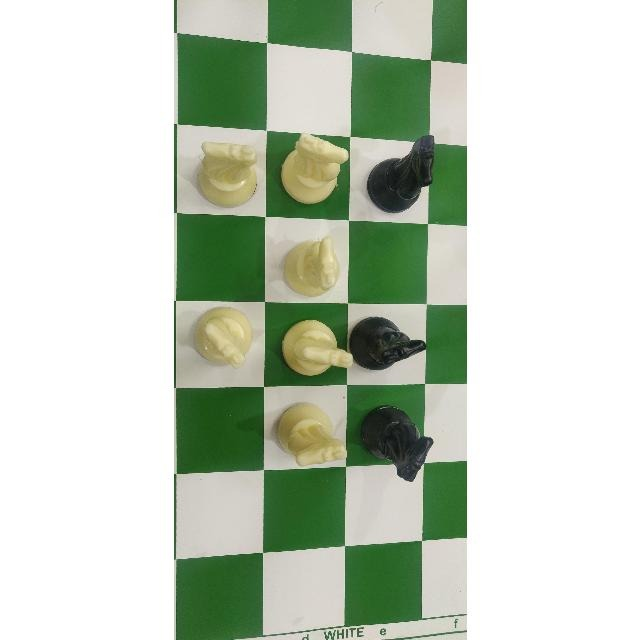black-knight: (355, 397, 438, 482), (360, 136, 438, 224), (356, 311, 425, 381)
white-knight: (274, 308, 353, 380), (272, 395, 347, 469), (189, 136, 261, 211), (272, 228, 349, 298), (277, 136, 347, 212), (185, 306, 261, 376)
